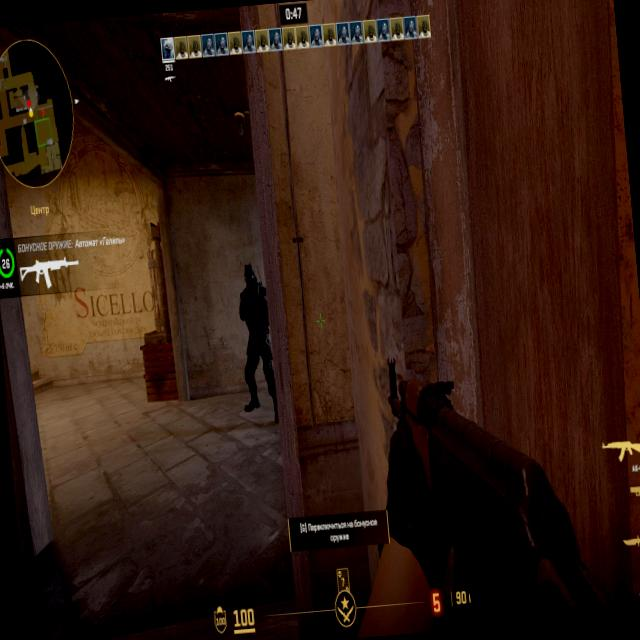CT: (240, 268, 276, 387)
CT_heat: (244, 270, 258, 302)
